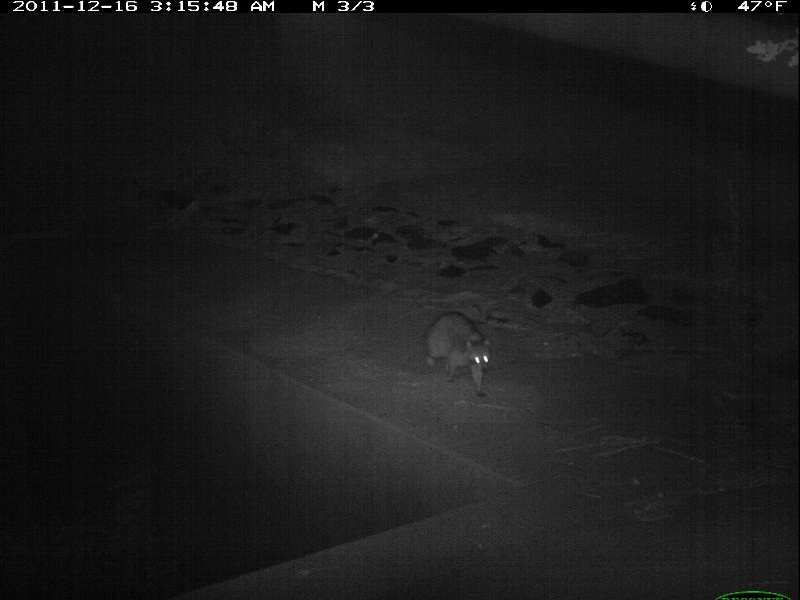raccoon: (420, 311, 498, 398)
